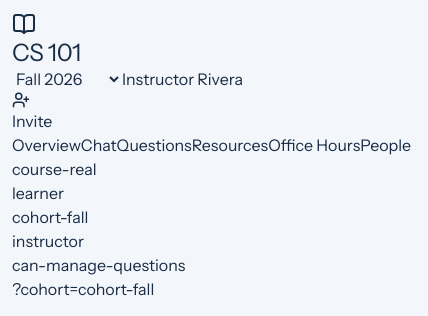
V2CourseWorkspaceLayout › restores and switches the selected cohort across the workspace
Expected: the text with test id "cohort-probe" reads "cohort-fall", [12, 207, 88, 227]
Expected: the text "Instructor Rivera" is shown, [122, 69, 243, 89]
Select "Spring 2026" in the dropdown named "Change cohort" at (67, 79), box [12, 68, 122, 90]
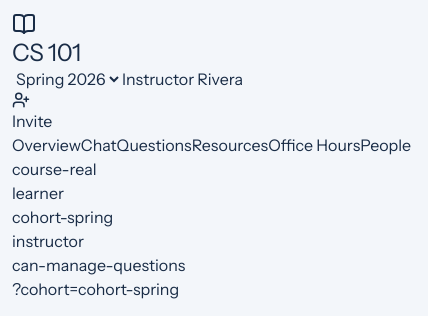
Expected: the text with test id "cohort-probe" reads "cohort-spring", [12, 207, 113, 227]
